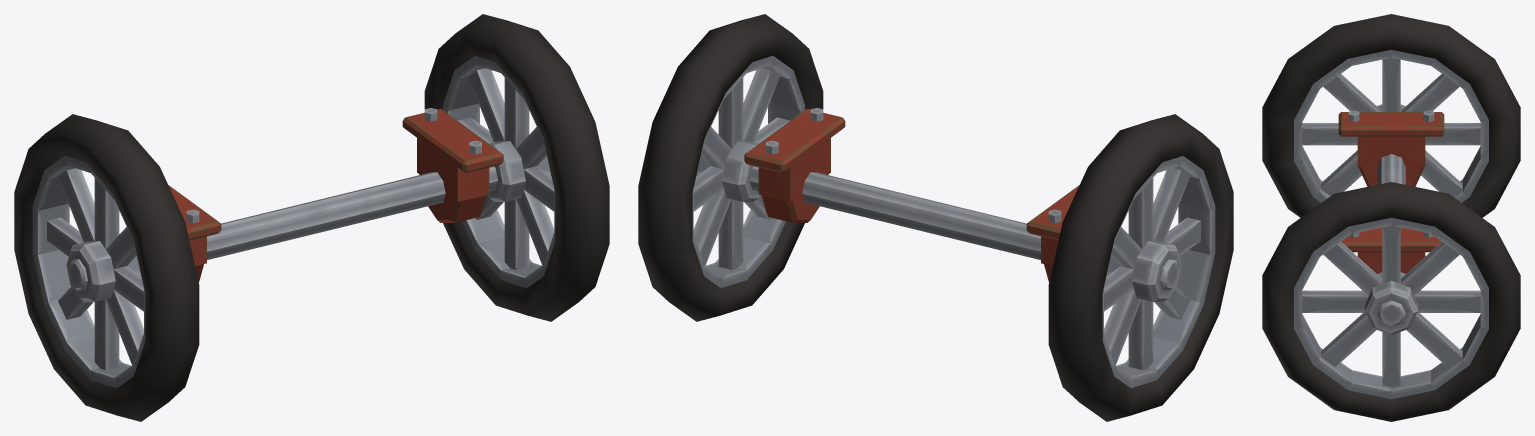
The model's file is wheel_axle.glb.
3 views of the same model, side by side, from view 1: azimuth 30°, elevation 25°; view 2: azimuth 150°, elevation 25°; view 3: azimuth 270°, elevation 25° (orthographic). The views are drawn at different scales.
Visible parts, largest first — view 1: tyre_left, tyre_right, wheel_left, wheel_right, axle, bearing_right, bearing_left; view 2: tyre_left, tyre_right, wheel_left, wheel_right, axle, bearing_right, bearing_left; view 3: tyre_right, wheel_right, tyre_left, wheel_left, bearing_left, bearing_right, axle.
Boxes of the visible parts, x1=… form: tyre_left: x1=14, y1=114, x2=199, y2=421; tyre_right: x1=424, y1=14, x2=609, y2=321; wheel_left: x1=32, y1=156, x2=145, y2=388; wheel_right: x1=443, y1=56, x2=555, y2=287; axle: x1=68, y1=166, x2=497, y2=290; bearing_right: x1=402, y1=108, x2=503, y2=222; bearing_left: x1=168, y1=185, x2=221, y2=282; tyre_left: x1=1048, y1=114, x2=1233, y2=421; tyre_right: x1=638, y1=14, x2=823, y2=321; wheel_left: x1=1102, y1=156, x2=1215, y2=388; wheel_right: x1=692, y1=56, x2=804, y2=287; axle: x1=750, y1=166, x2=1179, y2=290; bearing_right: x1=744, y1=108, x2=845, y2=222; bearing_left: x1=1026, y1=185, x2=1079, y2=282; tyre_right: x1=1262, y1=182, x2=1520, y2=421; wheel_right: x1=1294, y1=217, x2=1488, y2=399; tyre_left: x1=1262, y1=14, x2=1520, y2=217; wheel_left: x1=1294, y1=50, x2=1488, y2=202; bearing_left: x1=1338, y1=112, x2=1444, y2=186; bearing_right: x1=1341, y1=227, x2=1441, y2=290; axle: x1=1377, y1=154, x2=1405, y2=326.
Size of what is drawn, in the model's own units: 1.04 by 0.6 by 0.585.
3 materials, 3 textured.
